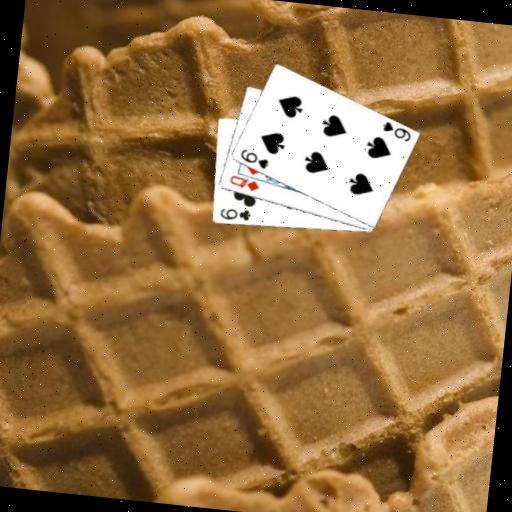6C: (216, 204, 253, 224)
6S: (236, 146, 271, 171), (379, 119, 414, 144)
QD: (226, 172, 262, 194)
